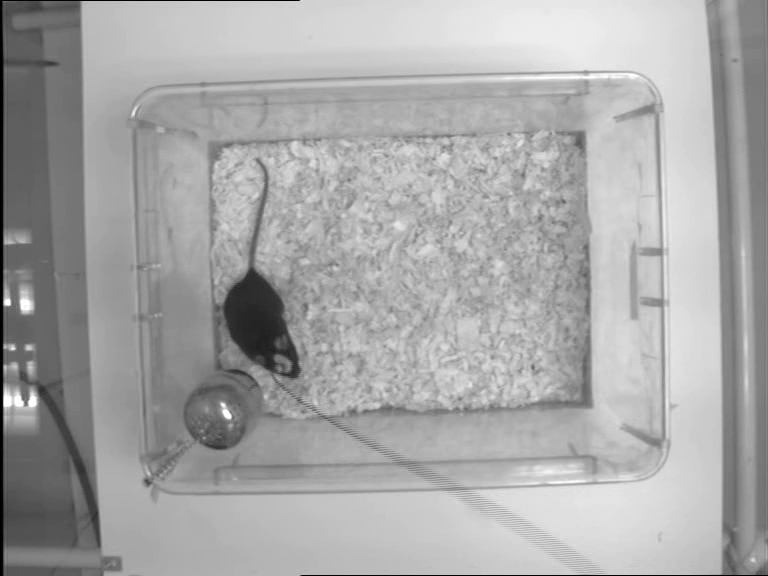mice: (218, 155, 305, 381)
